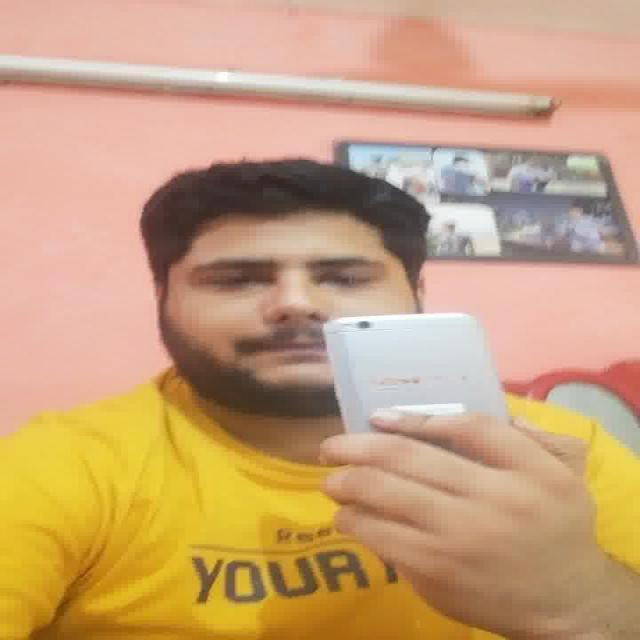Phone: (326, 309, 504, 437)
